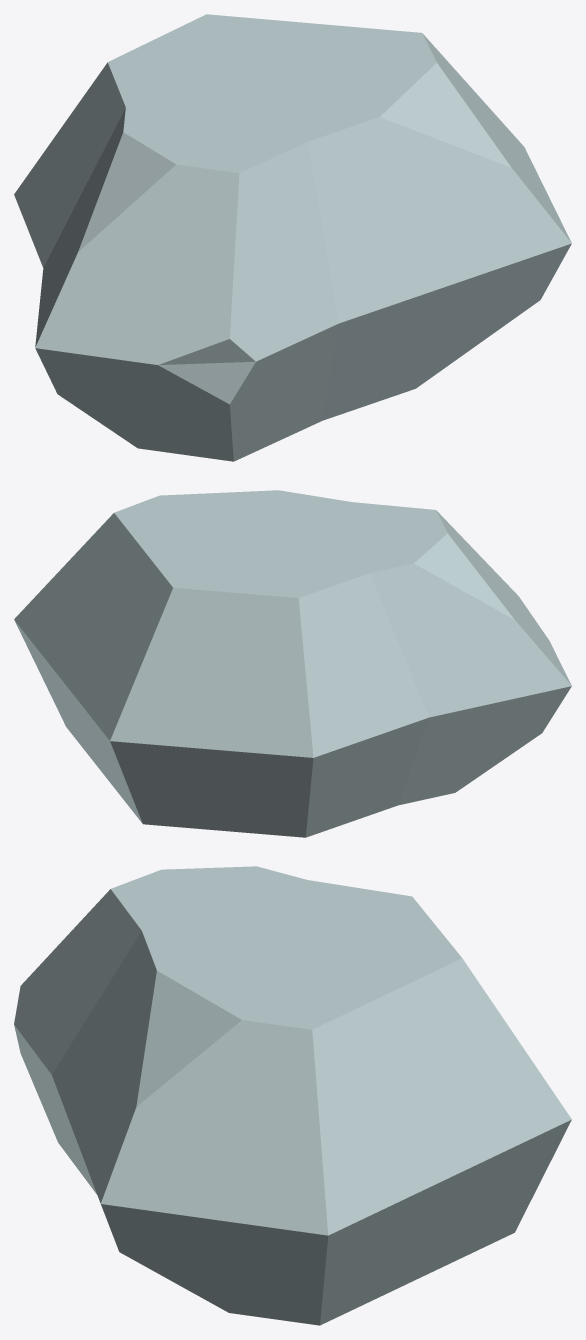
Rendered from stone_largeF.glb.
3 renders of one model, top to bottom at view 1: azimuth 30°, elevation 25°; view 2: azimuth 150°, elevation 25°; view 3: azimuth 270°, elevation 25°, orthographic. The views are drawn at different scales.
Parts seen in each view (by area): view 1: stone_largeF; view 2: stone_largeF; view 3: stone_largeF.
Boxes of the visible parts, x1,y1,x2,y2 form: stone_largeF: [14, 14, 571, 461]; stone_largeF: [14, 490, 571, 837]; stone_largeF: [14, 866, 571, 1325].
Size of the model in its own units: 1.1 by 0.479 by 0.899.
